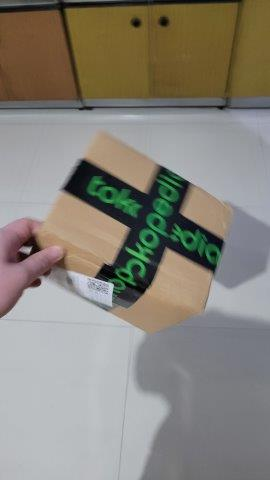kardus: (36, 129, 232, 329)
